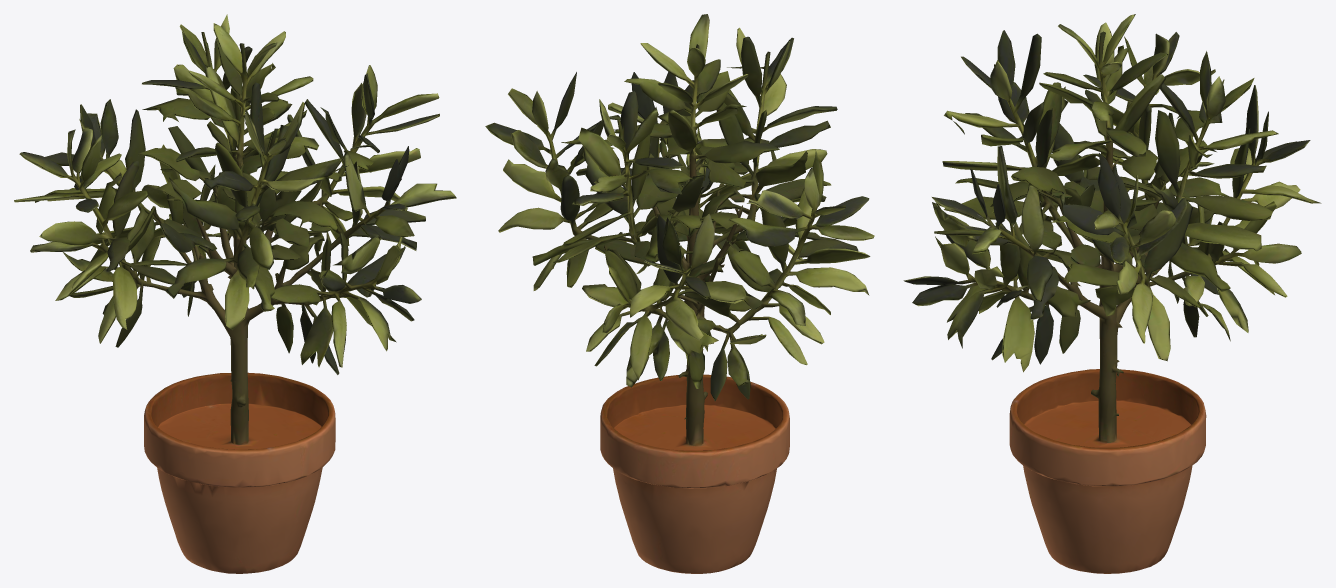
Rendered from cafe_olive.glb.
The picture shows the model from 3 angles, left to right: view 1: azimuth 30°, elevation 25°; view 2: azimuth 150°, elevation 25°; view 3: azimuth 270°, elevation 25°; orthographic projection. The views are drawn at different scales.
Visible parts, largest first — view 1: tripo_node_b3376009-c26f-46ca-b2b4-526a74dd6617; view 2: tripo_node_b3376009-c26f-46ca-b2b4-526a74dd6617; view 3: tripo_node_b3376009-c26f-46ca-b2b4-526a74dd6617.
Boxes of the visible parts, x1=… form: tripo_node_b3376009-c26f-46ca-b2b4-526a74dd6617: x1=14, y1=14, x2=456, y2=573; tripo_node_b3376009-c26f-46ca-b2b4-526a74dd6617: x1=485, y1=14, x2=874, y2=573; tripo_node_b3376009-c26f-46ca-b2b4-526a74dd6617: x1=903, y1=14, x2=1321, y2=573.
Size of the model in its own units: 0.8213 by 1 by 0.7139.
Materials: 1 (1 with a texture image).
